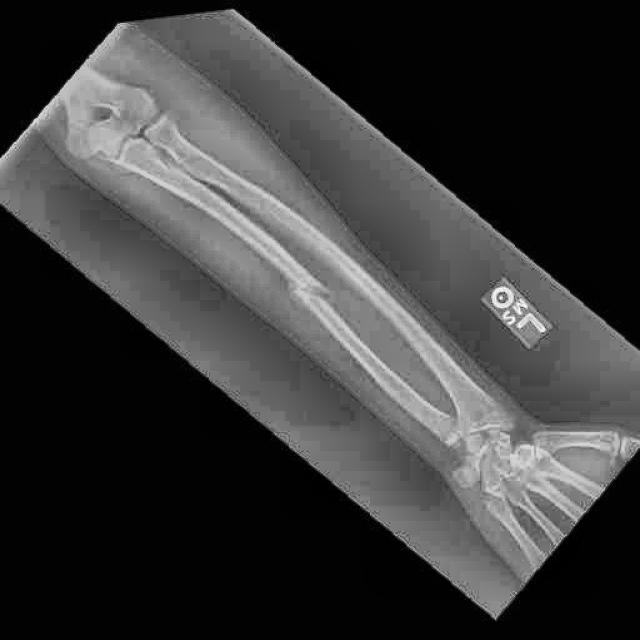forearm fracture: (257, 236, 358, 336)
